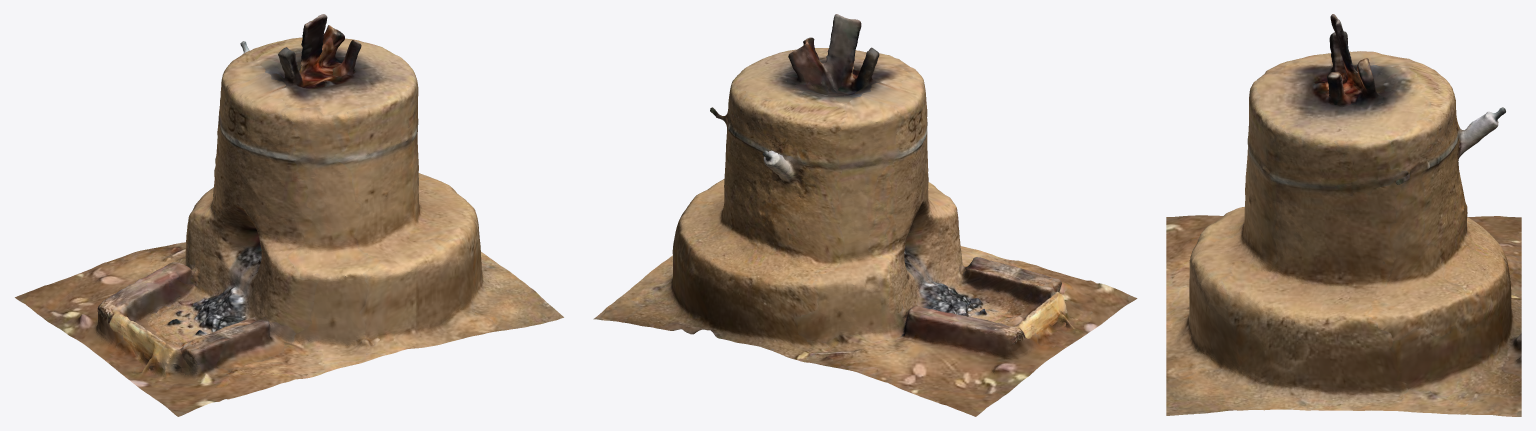
Rendered from seitetsuro.glb.
3 views of the same model, side by side, from view 1: azimuth 30°, elevation 25°; view 2: azimuth 150°, elevation 25°; view 3: azimuth 270°, elevation 25° (orthographic). The views are drawn at different scales.
Visible parts, largest first — view 1: mesh; view 2: mesh; view 3: mesh.
Part boxes in pixels (x1,y1,x2,y2): mesh: (15, 14, 563, 416); mesh: (593, 14, 1137, 416); mesh: (1166, 14, 1521, 416).
Size of the model in its own units: 1.39 by 0.999 by 1.02.
Materials: 1 (1 with a texture image).
